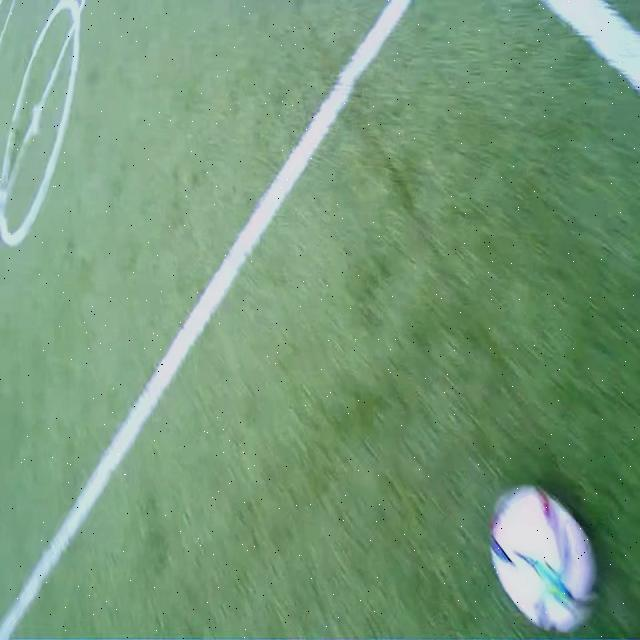ball: (487, 484, 597, 633)
